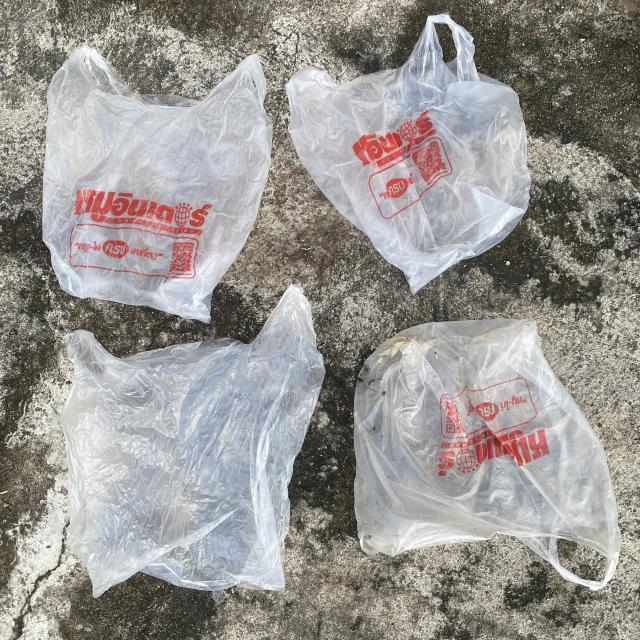Single-layer Plastic: (60, 285, 325, 596), (354, 319, 620, 590), (286, 14, 531, 292), (42, 46, 272, 322)
